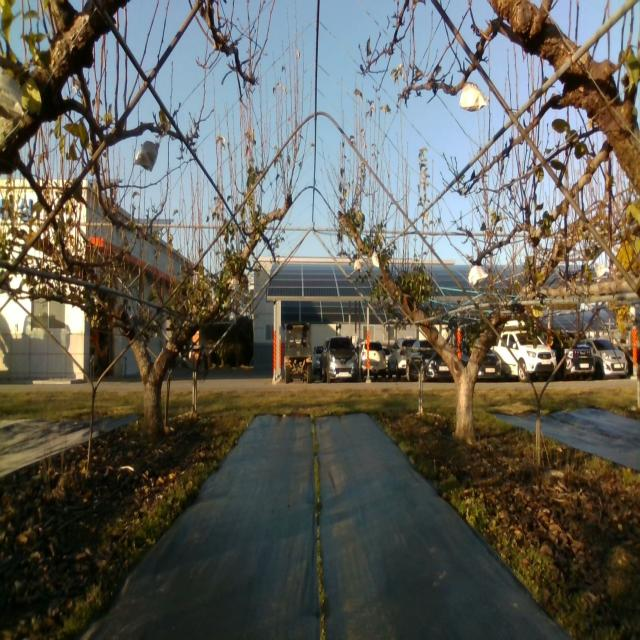pearbags: (0, 70, 23, 117), (134, 139, 160, 173), (459, 82, 486, 111), (468, 265, 488, 287)
